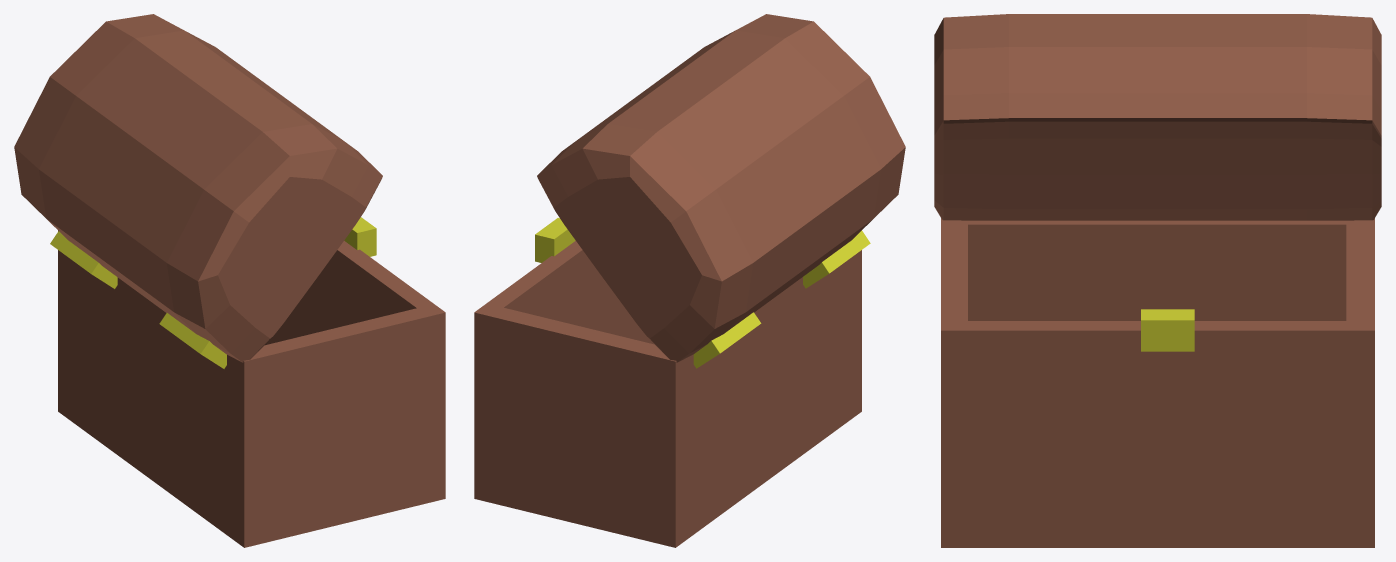
The model's file is bau_aberto.fbx.
3 renders of one model, left to right at view 1: azimuth 30°, elevation 25°; view 2: azimuth 150°, elevation 25°; view 3: azimuth 270°, elevation 25°, orthographic. The views are drawn at different scales.
Parts seen in each view (by area): view 1: Corpo bau, Tampa bau, Abre a caixa 2, Abre a caixa, Cube; view 2: Corpo bau, Tampa bau, Abre a caixa, Cube, Abre a caixa 2; view 3: Corpo bau, Tampa bau, Cube.
Boxes of the visible parts, x1,y1,x2,y2 form: Corpo bau: (58,230,445,547); Tampa bau: (14,14,382,362); Abre a caixa 2: (159,313,226,368); Abre a caixa: (50,231,117,288); Cube: (344,217,376,256); Corpo bau: (474,241,861,547); Tampa bau: (537,14,905,362); Abre a caixa: (693,312,761,368); Cube: (535,218,575,262); Abre a caixa 2: (803,230,870,288); Corpo bau: (941,218,1374,547); Tampa bau: (934,14,1381,220); Cube: (1141,309,1194,351).
Size of the model in its own units: 299 by 411 by 373.
